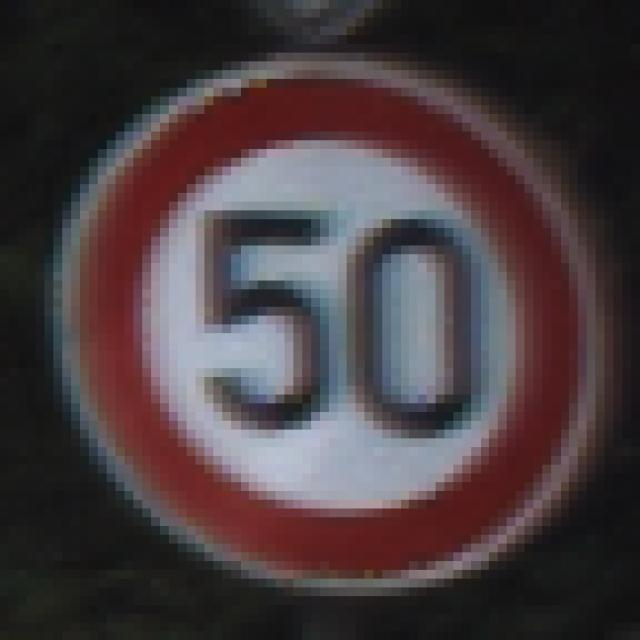speed limit 50: (58, 51, 600, 599)
